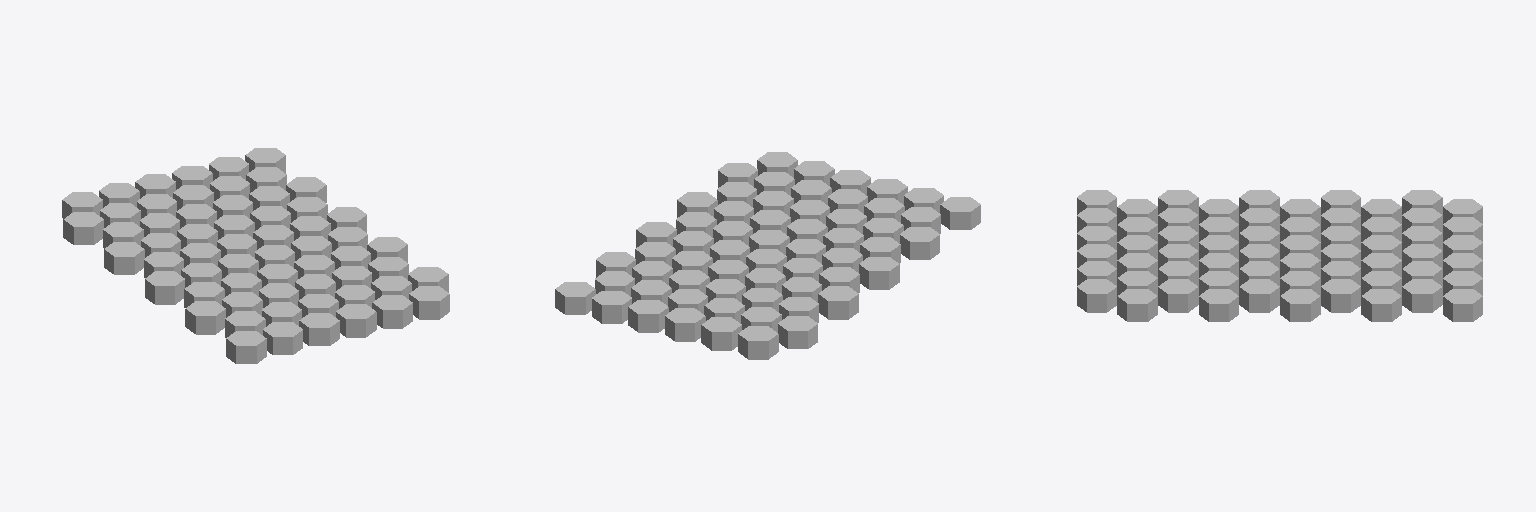
File: hexagonGridPolygons.obj
The picture shows the model from 3 angles: view 1: azimuth 30°, elevation 25°; view 2: azimuth 150°, elevation 25°; view 3: azimuth 270°, elevation 25°; orthographic projection.
Visible parts, largest first — view 1: Circle; view 2: Circle; view 3: Circle.
Boxes of the visible parts, <box> form: Circle: <box>62,148,449,363</box>; Circle: <box>555,152,980,359</box>; Circle: <box>1077,190,1482,321</box>.
Bounding box in the file's own units: 66.08 × 5 × 100.